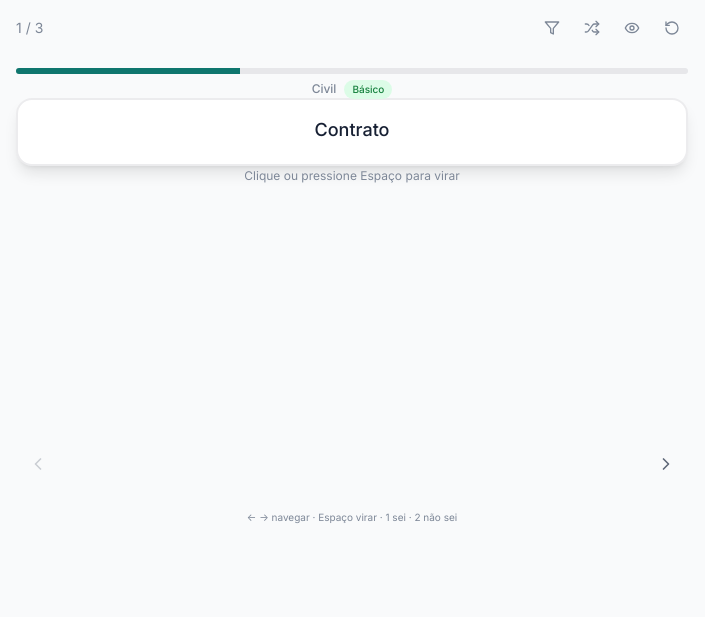
Scenario: FlashcardViewer › supports flipping cards, marking study results, and filtering by category
Expected: the text "1 / 3" is shown, left=16, top=18, right=43, bottom=38
Expected: the text "Básico" is shown, left=344, top=80, right=392, bottom=99
Click the text "Contrato" at (352, 130), box left=314, top=115, right=390, bottom=144
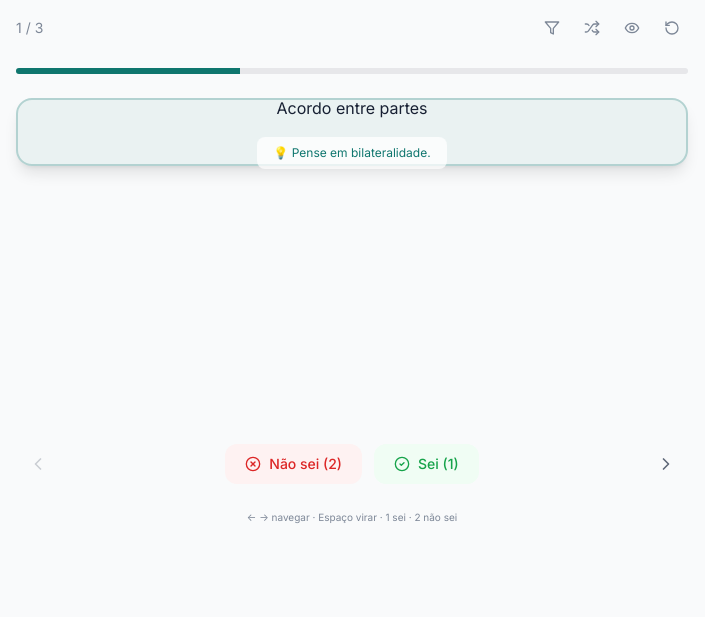
Expected: the text "Acordo entre partes" is shown, left=276, top=95, right=428, bottom=121
Expected: the text "💡 Pense em bilateralidade." is shown, left=273, top=145, right=431, bottom=161
Click the button "Sei (1)" at (426, 464), box left=374, top=444, right=479, bottom=484
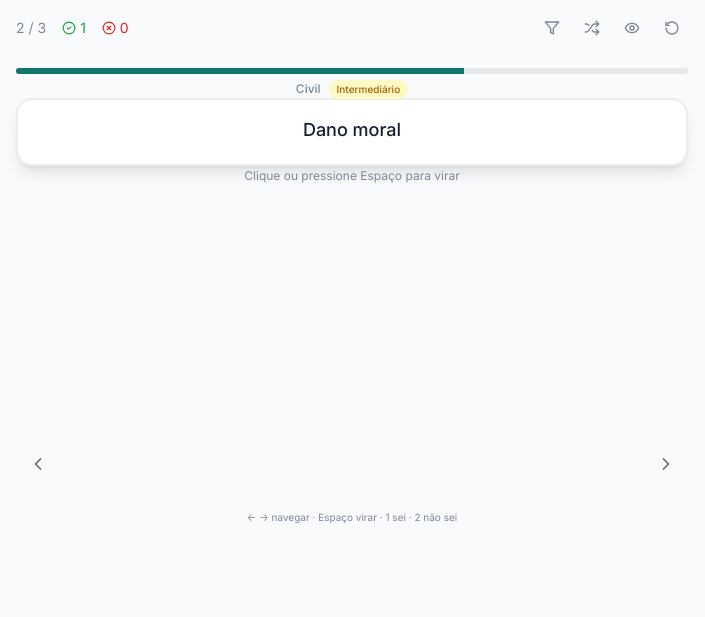
Expected: the text "1" is shown, left=62, top=18, right=86, bottom=38
Now the text "2 / 3" is shown, box left=16, top=18, right=46, bottom=38
Click the button titled "Filtros" at (552, 28), box left=536, top=12, right=568, bottom=44
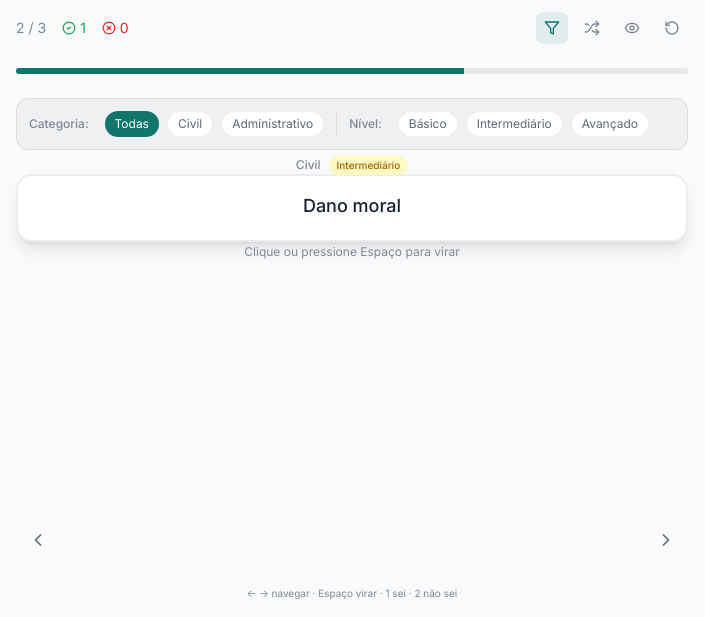
Click the button "Administrativo" at (273, 124), box left=221, top=111, right=324, bottom=137
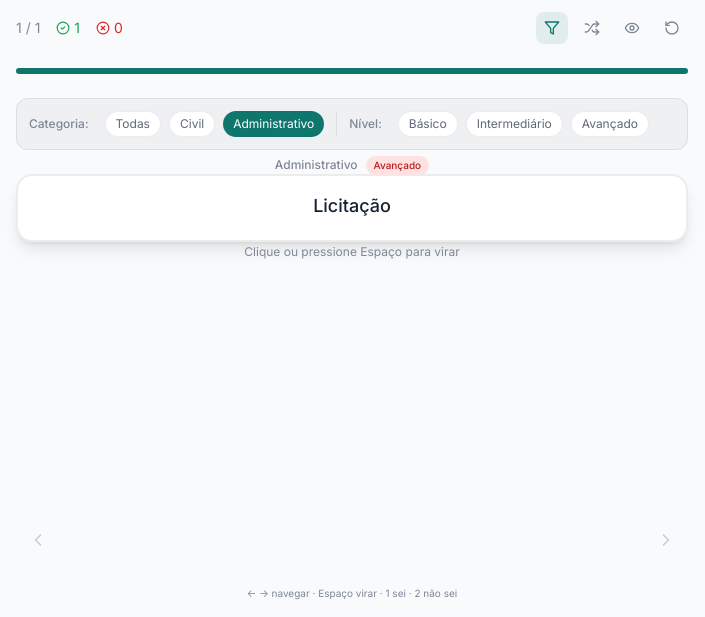
Now the text "1 / 1" is shown, box left=16, top=18, right=40, bottom=38
Now the text "Licitação" is shown, box left=313, top=191, right=391, bottom=220
Now the text "Dano moral" is gone
